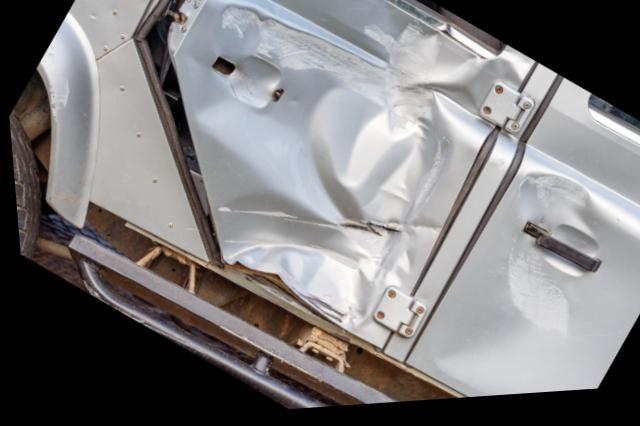dent: (207, 5, 517, 339), (428, 262, 565, 402), (511, 183, 588, 243)
dislocated part: (126, 0, 227, 267)
scratch: (39, 46, 67, 125)
